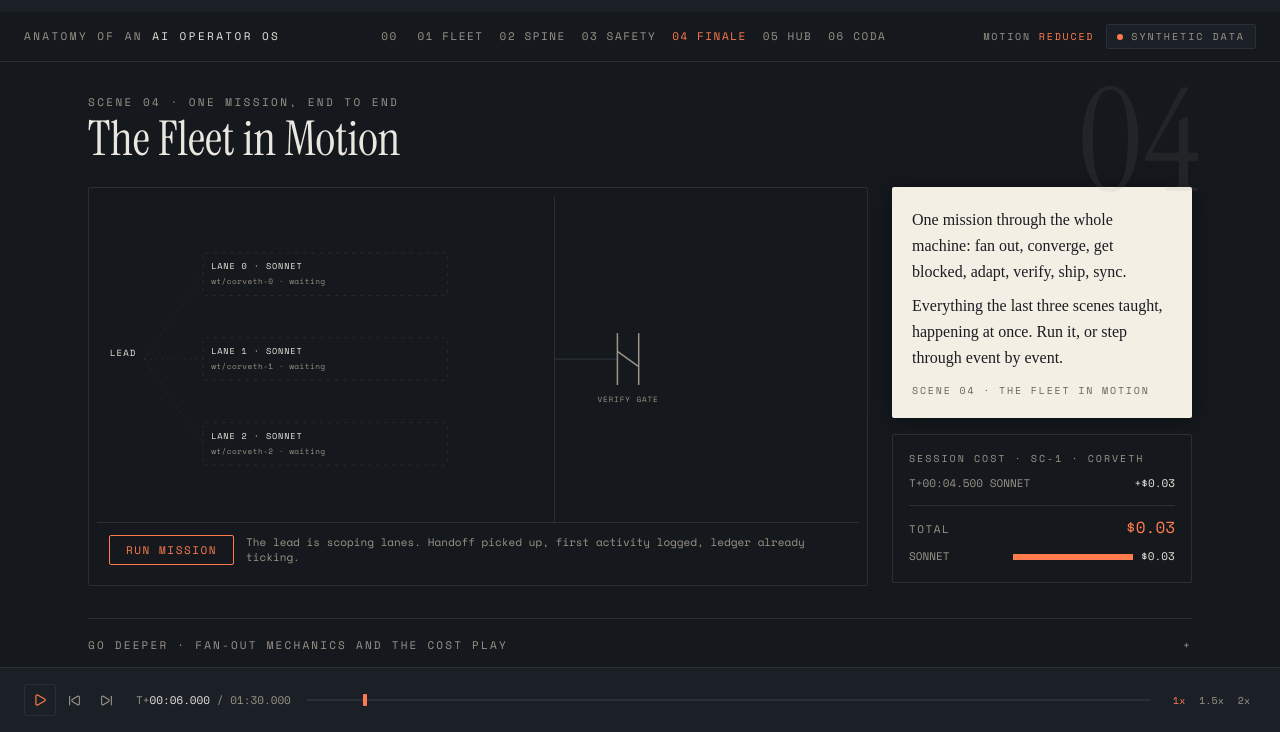
Test case: reduced motion: finale (scene 04) › reaches the terminal shipped state as text without motion
The image size is (1280, 732).
Set the slider named "Session clock scrubber" to "19000" at (490, 700), box [307,688,1151,712]
(page scrolled)
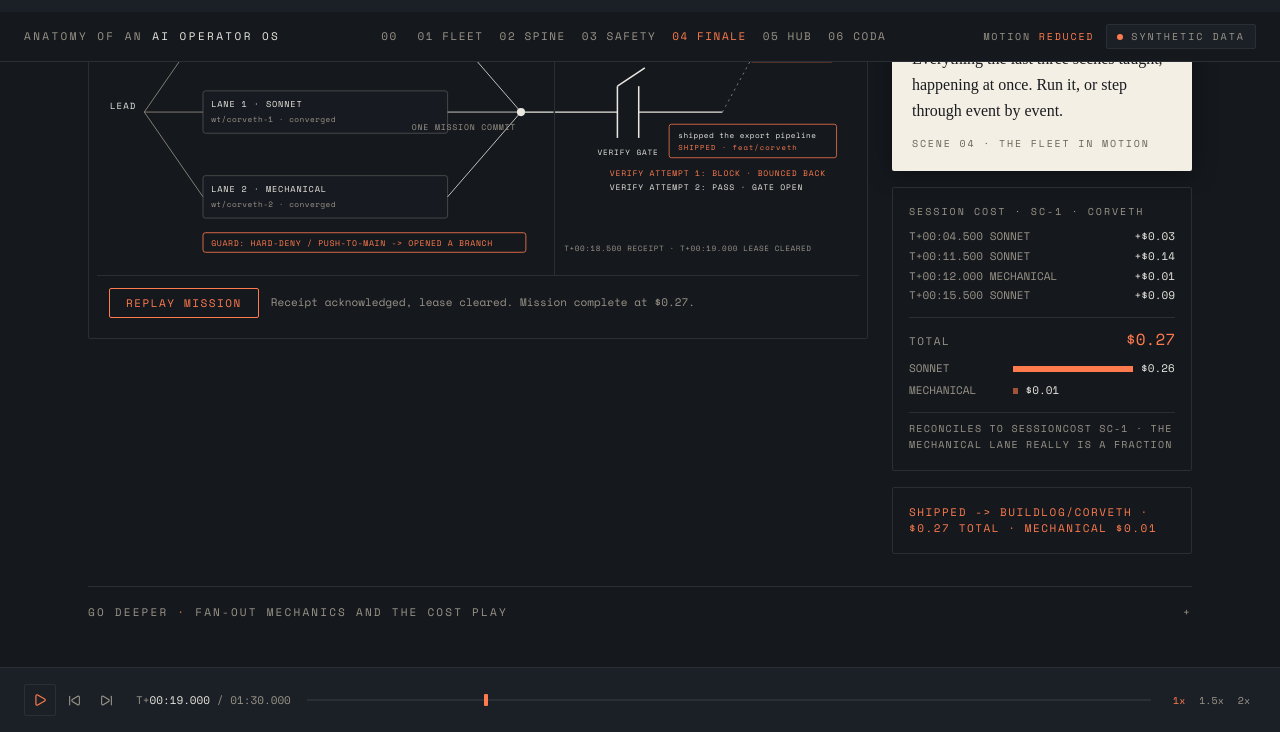
Expected: the text with test id "mission-beat" shows "Receipt acknowledged, lease cleared.", [271,294,695,310]
Expected: the text with test id "finale-takeaway" shows "Shipped", [909,504,1157,536]
